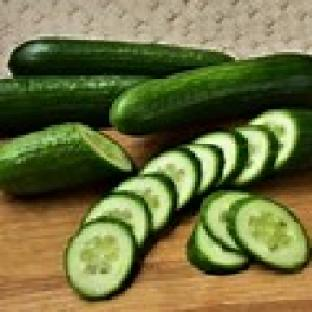Zucchini: (110, 55, 311, 135), (0, 123, 132, 194), (8, 37, 231, 75), (0, 76, 148, 132), (229, 198, 309, 270), (66, 219, 137, 299), (81, 193, 150, 247), (250, 110, 311, 171), (141, 149, 202, 210), (115, 175, 176, 231), (188, 222, 249, 275), (201, 190, 249, 252), (232, 125, 278, 187), (195, 131, 247, 184), (185, 144, 223, 194)
